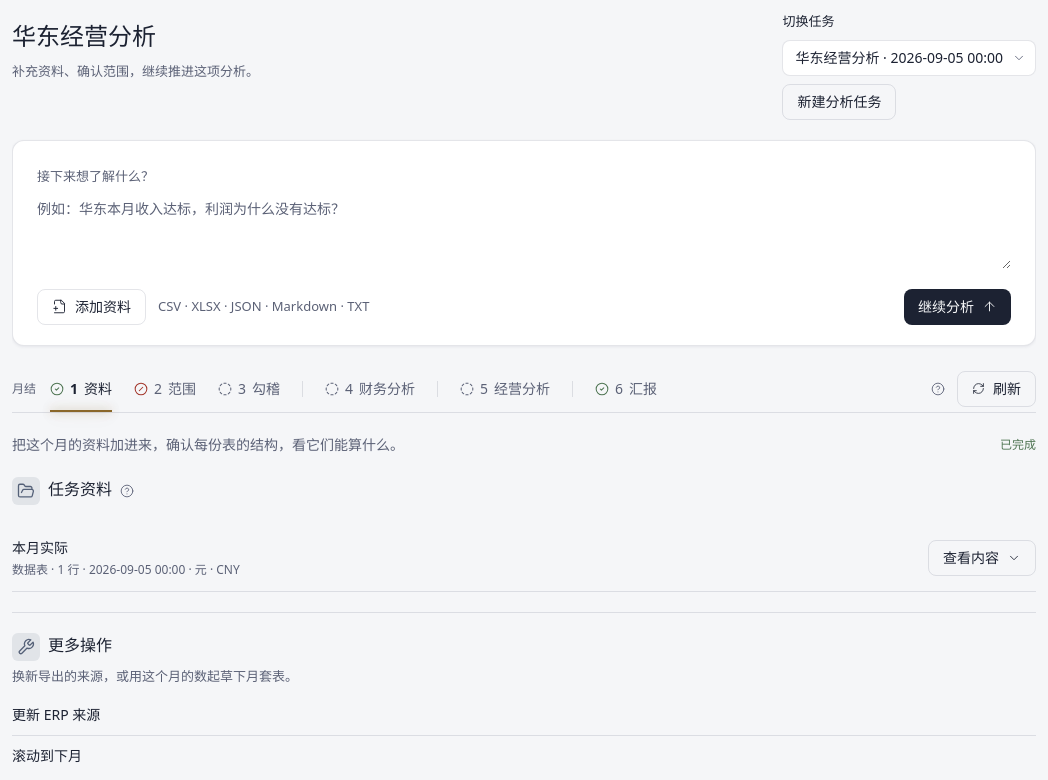
analysis workbench › preserves exact Decimal text and separates execution, reproducibility, review and publication
Expected: the text "本月实际" is shown, x1=12 y1=538 x2=68 y2=556
Step 1. Click the tab "4 财务分析" → (370, 388), box x1=325 y1=366 x2=415 y2=412
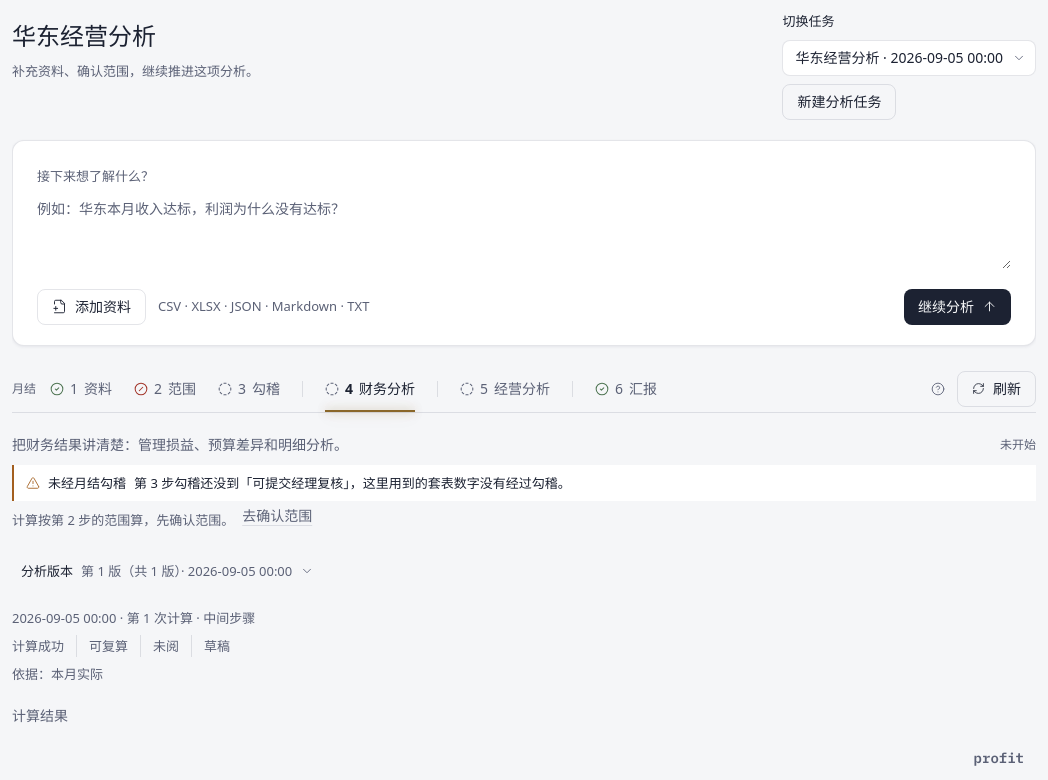
Now the text "计算成功" is shown, box x1=12 y1=635 x2=64 y2=657
Now the text "可复算" is shown, box x1=76 y1=635 x2=128 y2=657
Now the text "未阅" is shown, box x1=140 y1=635 x2=179 y2=657
